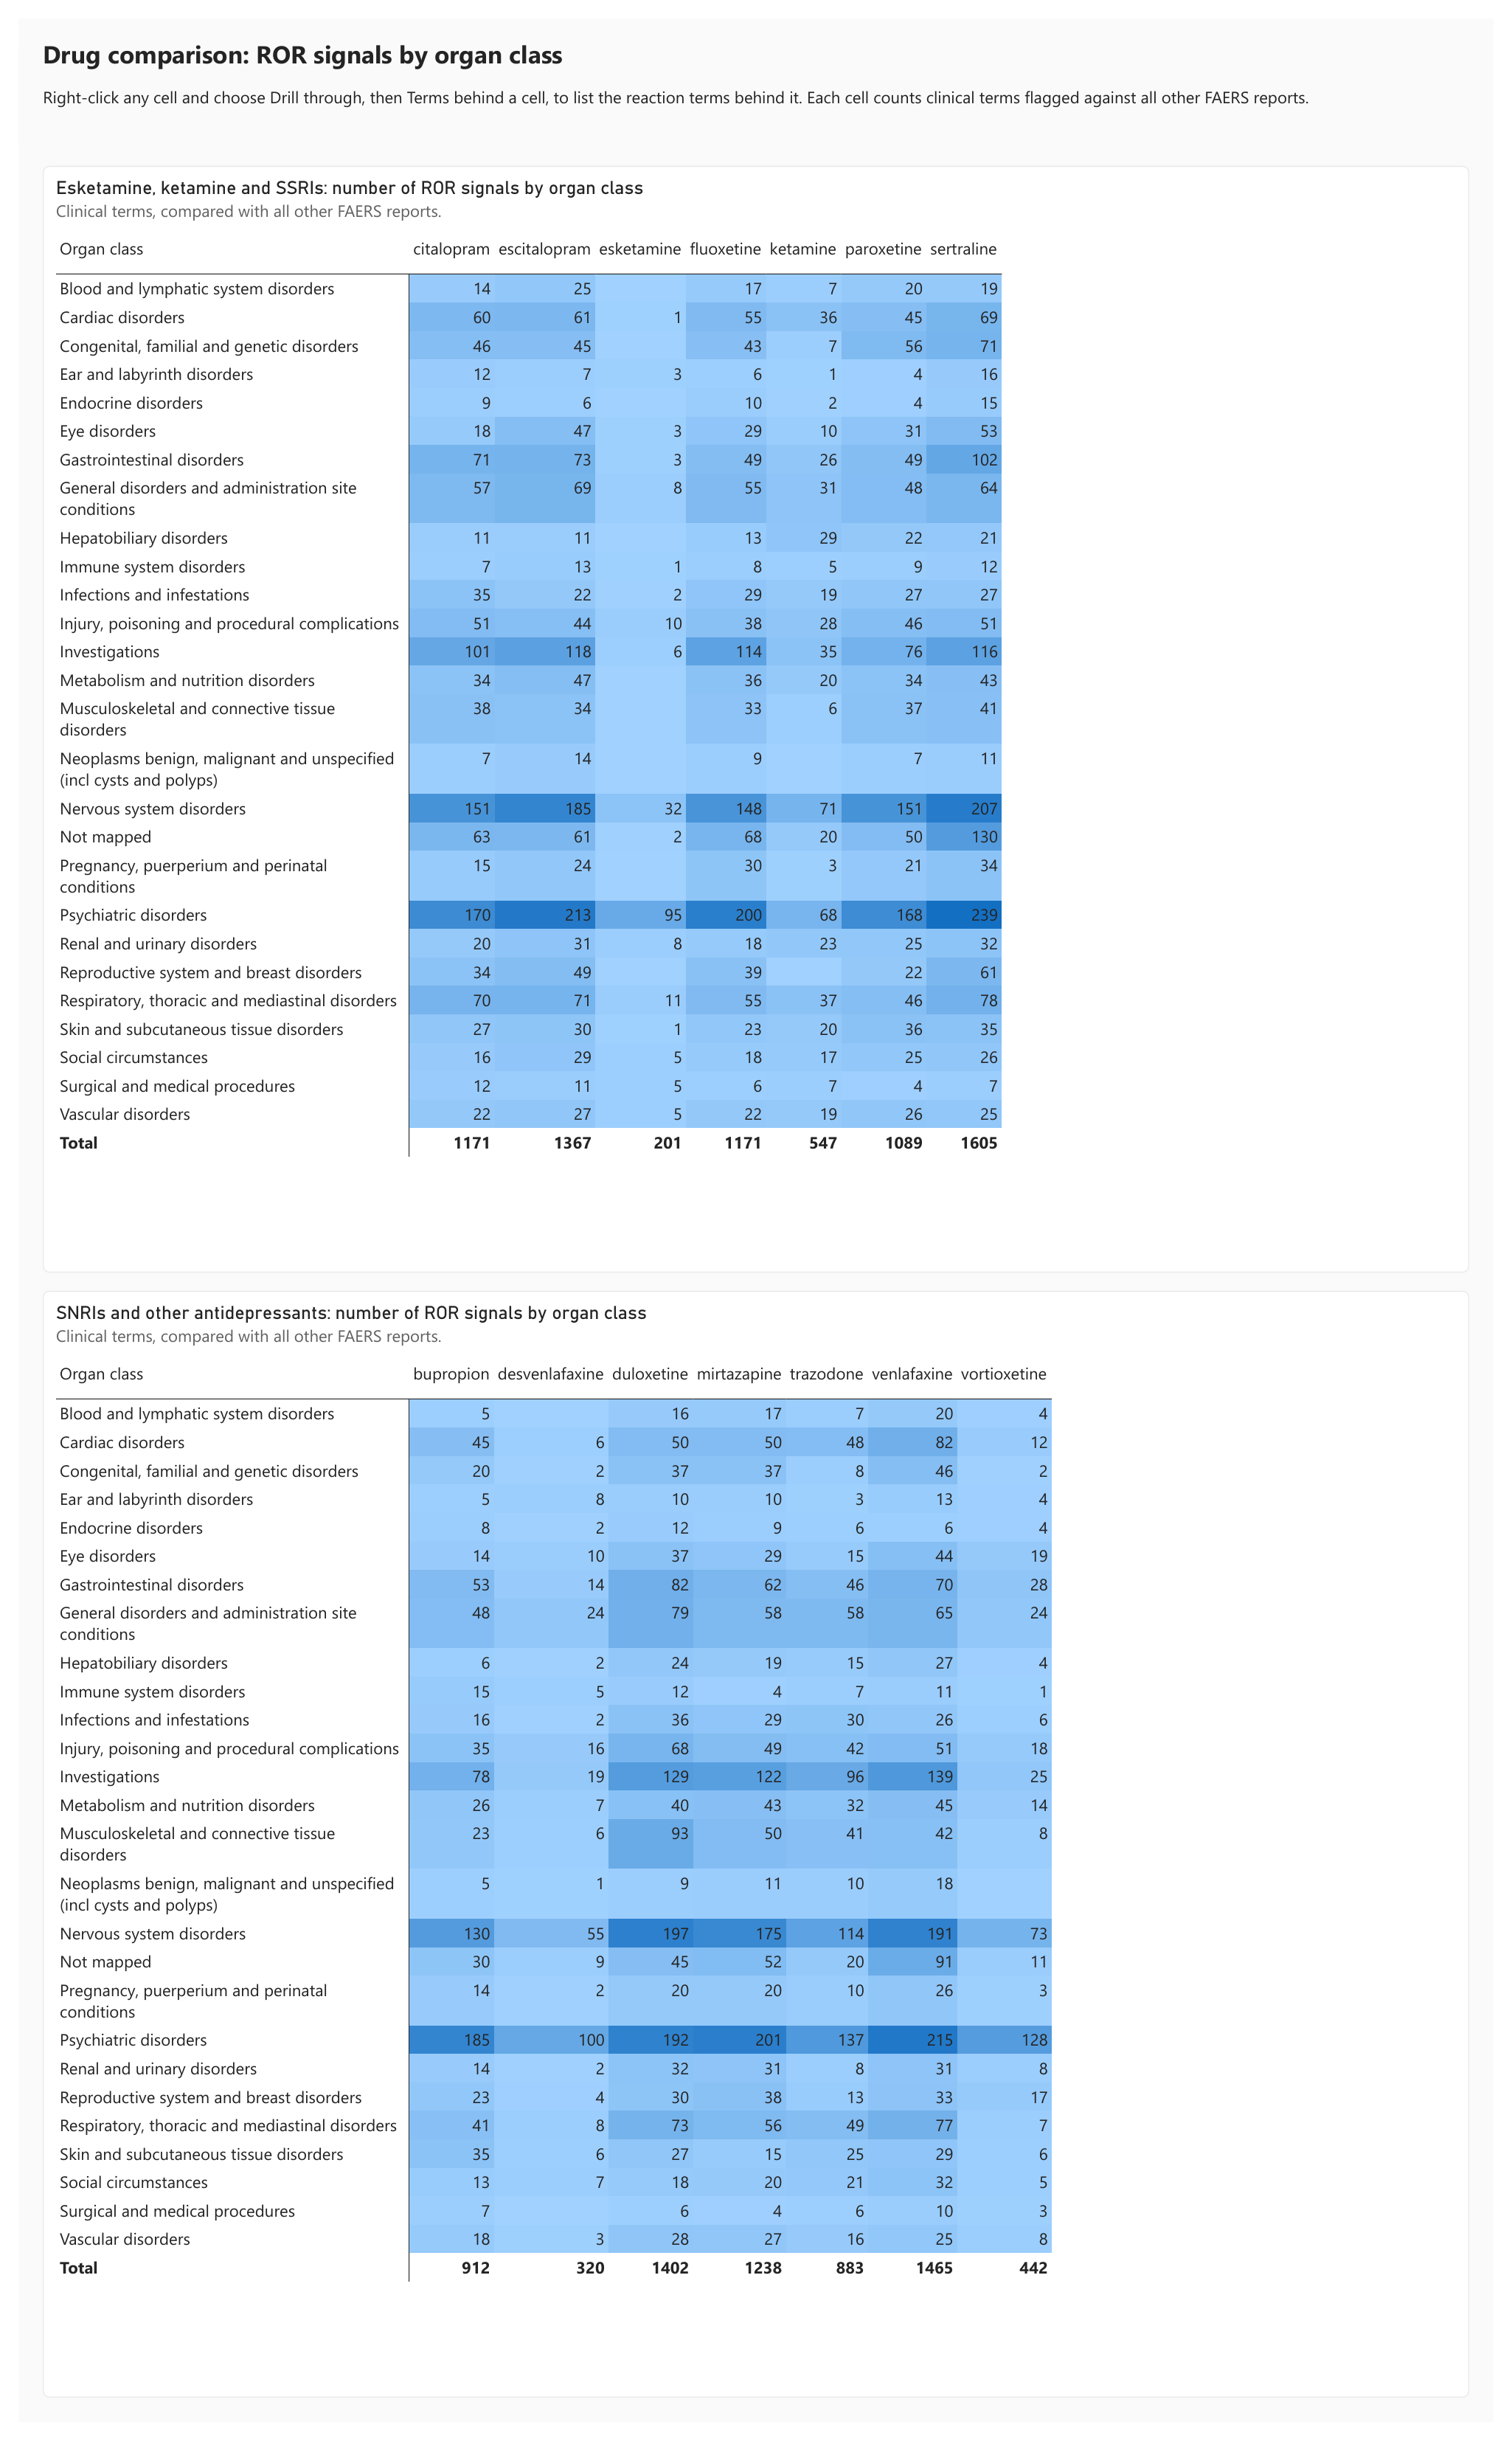

What the dashboard file says about the page in this screenshot:
{"tool":"powerbi","page":{"name":"Drug comparison","canvas":[1920,3128],"ordinal":2},"visuals":[{"type":"textbox","box":[32,24,1856,64],"z":0},{"type":"textbox","box":[32,88,1856,80],"z":1000},{"type":"pivotTable","title":"Esketamine, ketamine and SSRIs: number of ROR signals by organ class","fields":{"Columns":["Drug.exposure"],"Rows":["Signals.soc"],"Values":["_Measures.Signals (ROR)"]},"box":[32,192,1856,1440],"z":2000},{"type":"pivotTable","title":"SNRIs and other antidepressants: number of ROR signals by organ class","fields":{"Columns":["Drug.exposure"],"Rows":["Signals.soc"],"Values":["_Measures.Signals (ROR)"]},"box":[32,1656,1856,1440],"z":3000}]}

Visuals, with their boxes in screenshot pixels (x1, y1, x2, y2), scaled from the page's 1920x3128 canvas onto the 1512x2441 screenshot:
textbox: <bbox>25, 18, 1487, 69</bbox>
textbox: <bbox>25, 69, 1487, 131</bbox>
"Esketamine, ketamine and SSRIs: number of ROR signals by organ class" pivotTable: <bbox>25, 150, 1487, 1273</bbox>
"SNRIs and other antidepressants: number of ROR signals by organ class" pivotTable: <bbox>25, 1292, 1487, 2416</bbox>
